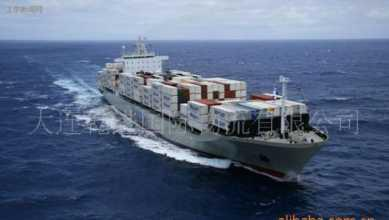Cargoship: (97, 34, 334, 172)
